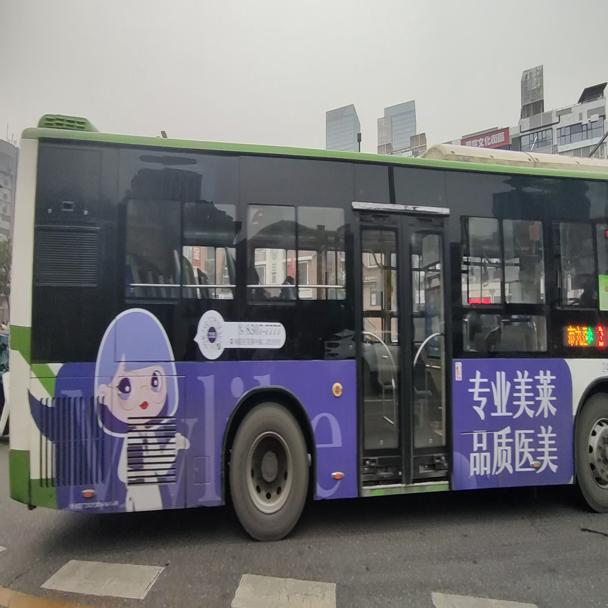bus: (8, 119, 606, 513)
screen: (593, 324, 605, 351)
